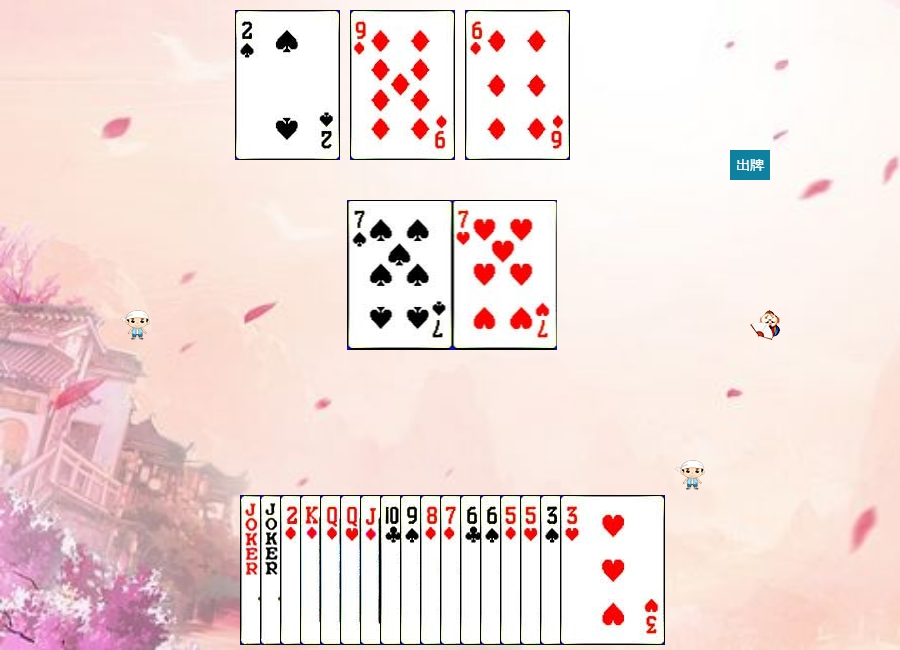10~2: (380, 495, 485, 645)
11~1: (360, 495, 465, 645)
12~1: (320, 495, 425, 645)
12~3: (340, 495, 445, 645)
13~1: (300, 495, 405, 645)
15~1: (280, 495, 385, 645)
15~4: (235, 10, 340, 160)
17~3: (260, 495, 365, 645)
18~4: (240, 495, 345, 645)
3~3: (560, 495, 665, 645)
3~4: (540, 495, 645, 645)
5~1: (500, 495, 605, 645)
5~3: (520, 495, 625, 645)
6~1: (465, 10, 570, 160)
6~2: (460, 495, 565, 645)
6~4: (480, 495, 585, 645)
7~1: (440, 495, 545, 645)
7~3: (453, 200, 558, 350)
7~4: (348, 200, 453, 350)
8~1: (420, 495, 525, 645)
9~1: (350, 10, 455, 160)
9~4: (400, 495, 505, 645)
